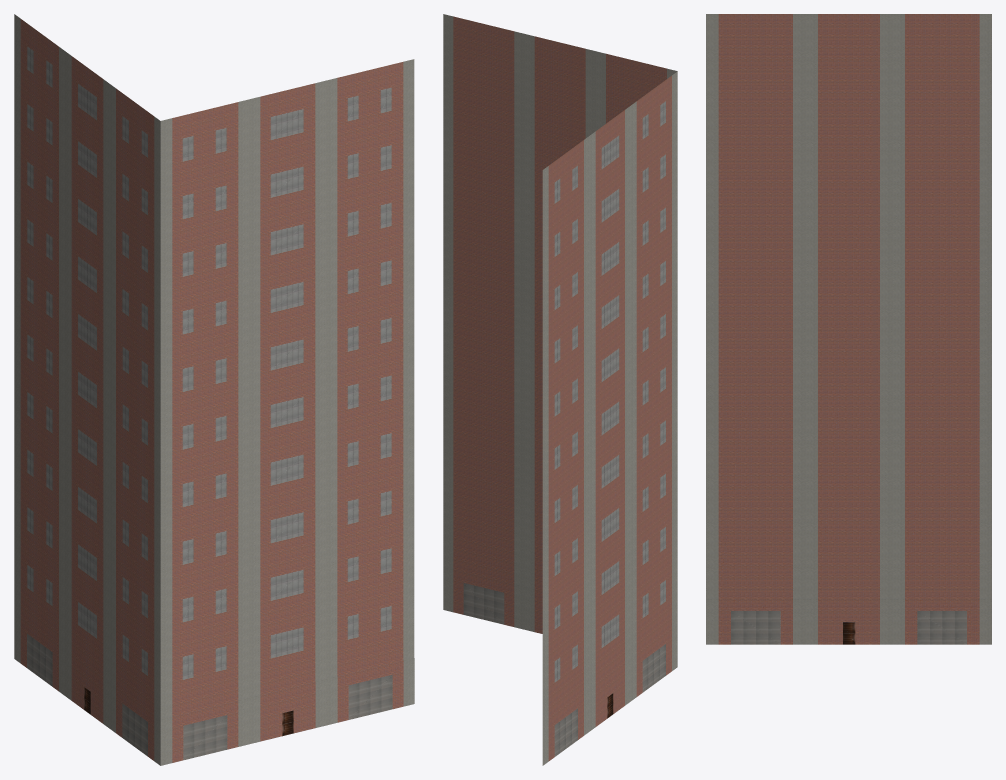
The model's file is TallBuilding1.obj.
3 views of the same model, side by side, from view 1: azimuth 30°, elevation 25°; view 2: azimuth 150°, elevation 25°; view 3: azimuth 270°, elevation 25° (orthographic). The views are drawn at different scales.
Visible parts, largest first — view 1: Structure_1, Structure_0, Windows, Structure_4, Structure_2; view 2: Structure_1, Structure_0, Windows, Structure_4, Structure_2; view 3: Structure_1, Structure_0, Structure_4, Structure_2.
Boxes of the visible parts, x1,y1,x2,y2 form: Structure_1: (20,19,403,725); Structure_0: (14,14,414,765); Windows: (27,47,391,679); Structure_4: (20,618,403,762); Structure_2: (27,634,392,760); Structure_1: (453,16,671,724); Structure_0: (443,14,677,765); Windows: (554,101,665,682); Structure_4: (453,570,671,761); Structure_2: (463,583,665,756); Structure_1: (718,14,979,622); Structure_0: (706,14,991,644); Structure_4: (718,599,979,644); Structure_2: (731,611,966,644).
Bounding box in the file's own units: 23.08 × 56 × 23.01.
Materials: 5 (5 with a texture image).
